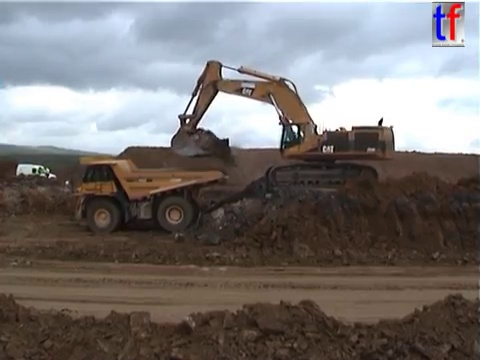excavator: (168, 58, 399, 197)
truck: (62, 153, 226, 235)
worker: (43, 164, 51, 184), (35, 164, 43, 183)
